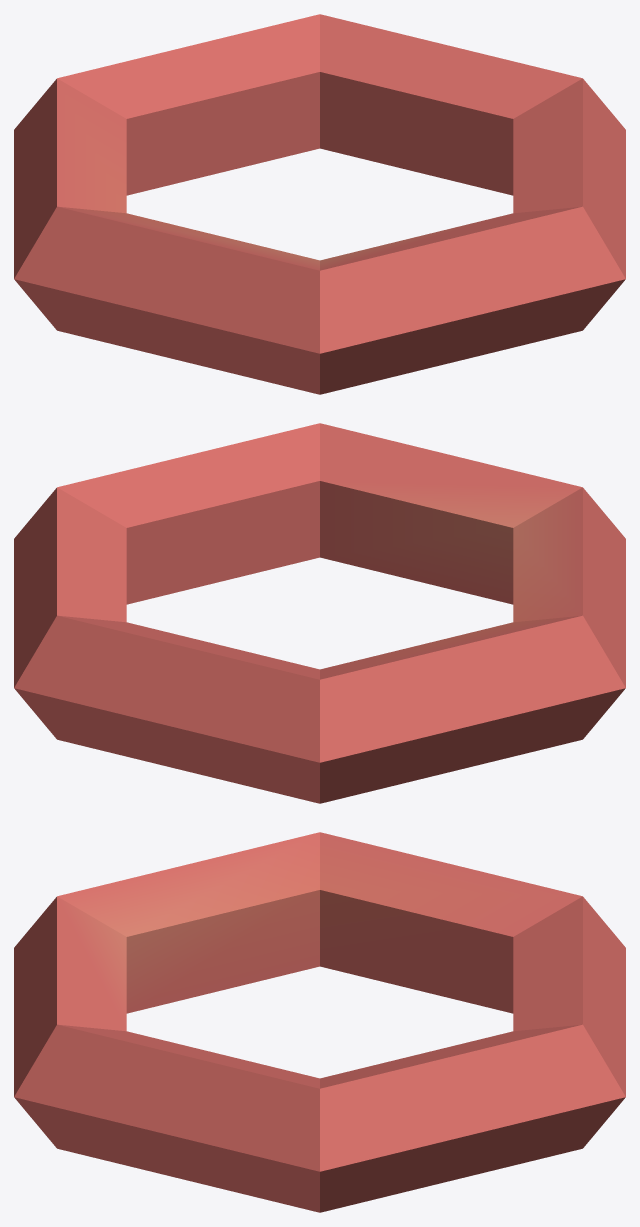
The model's file is minimapGoal.fbx.
3 views of the same model, one above another, from view 1: azimuth 30°, elevation 25°; view 2: azimuth 150°, elevation 25°; view 3: azimuth 270°, elevation 25° (orthographic).
Visible parts, largest first — view 1: Torus; view 2: Torus; view 3: Torus.
Boxes of the visible parts, bbox=[...] form: Torus: bbox=[14, 14, 625, 394]; Torus: bbox=[14, 423, 625, 803]; Torus: bbox=[14, 832, 625, 1212].
Bounding box in the file's own units: 324 × 62.77 × 281.
